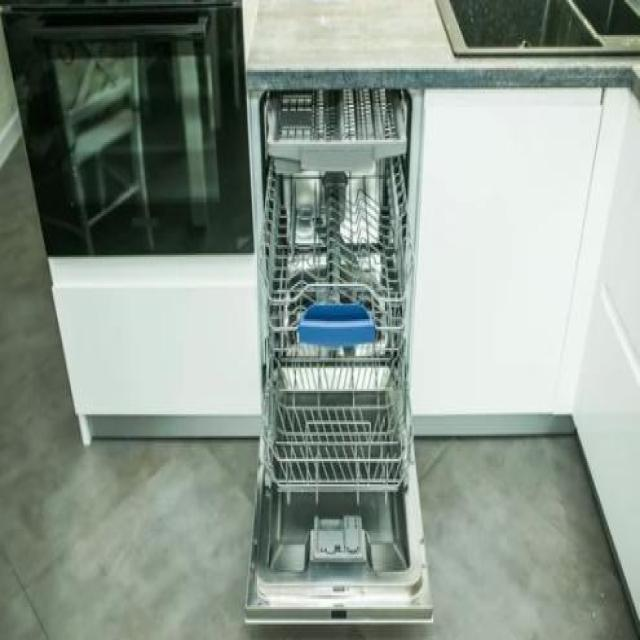dishwasher: (248, 90, 433, 630)
